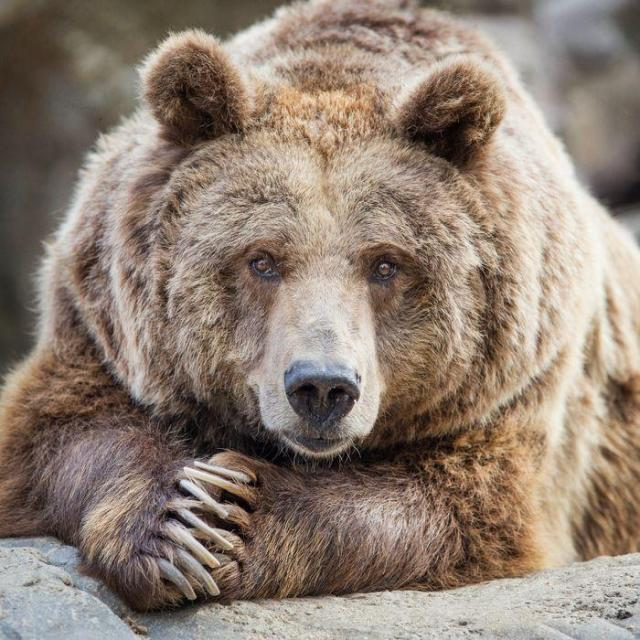Bear: (0, 0, 640, 616)
